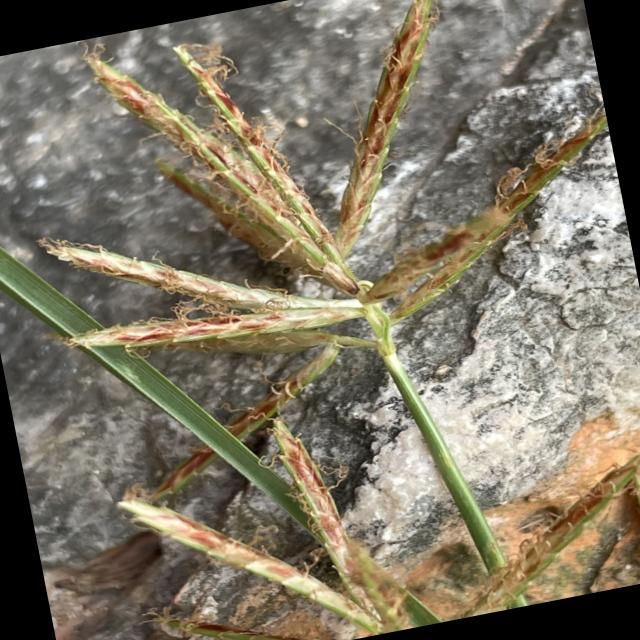cyperus: (1, 0, 640, 574)
